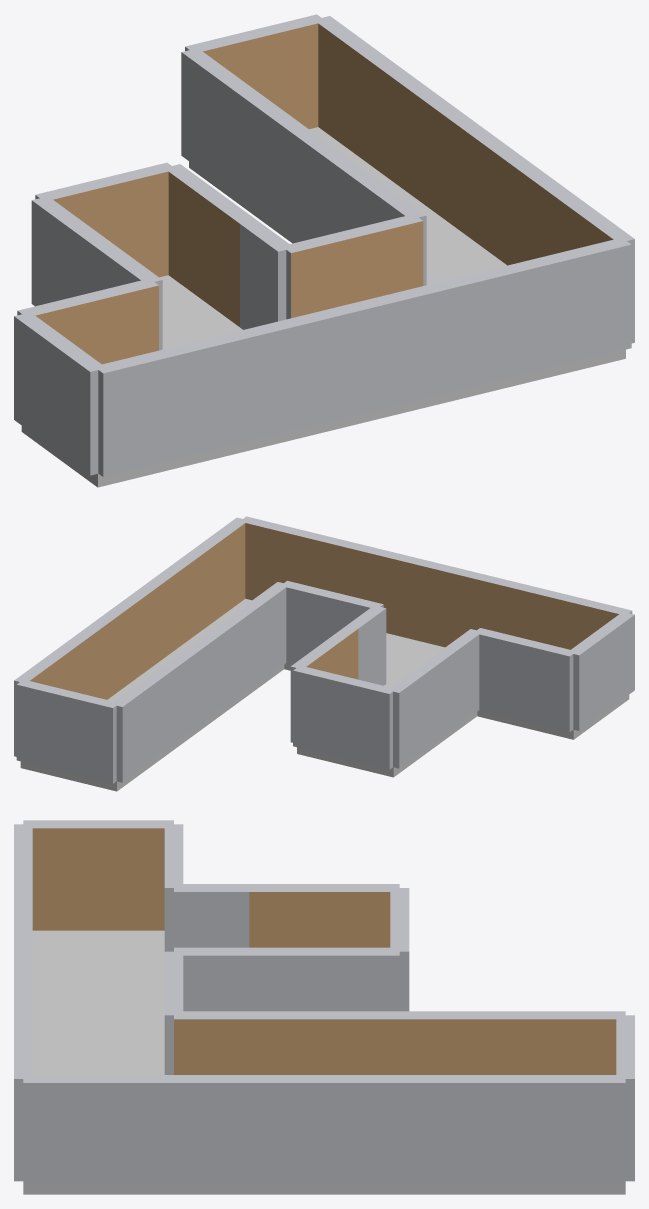
The model's file is forest_lab.fbx.
3 renders of one model, top to bottom at view 1: azimuth 30°, elevation 25°; view 2: azimuth 150°, elevation 25°; view 3: azimuth 270°, elevation 25°, orthographic. The views are drawn at different scales.
Parts seen in each view (by area): view 1: forest_lab_b_1; view 2: forest_lab_b_1; view 3: forest_lab_b_1.
Part boxes in pixels (box(x1,y1,x2,y2)): forest_lab_b_1: box(14, 14, 634, 487); forest_lab_b_1: box(14, 516, 634, 791); forest_lab_b_1: box(14, 820, 634, 1194).
Size of the model in its own units: 1650 by 340 by 1650.
